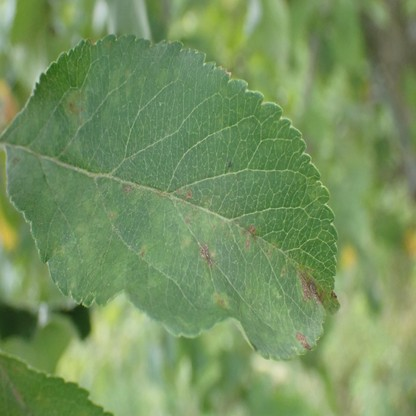scab: (12, 82, 337, 350)
